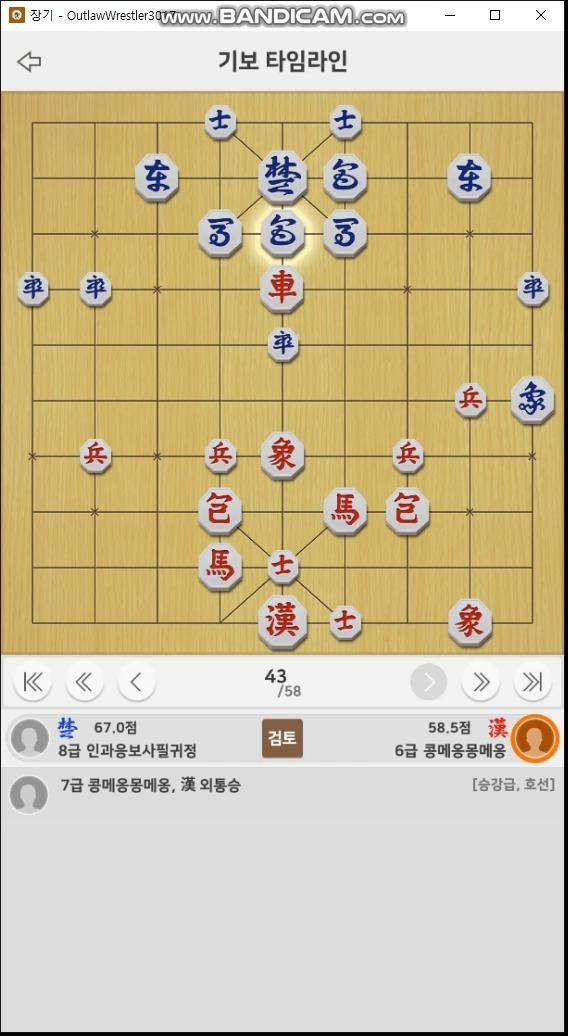cha_green: (133, 153, 181, 201), (447, 154, 493, 198)
cha_red: (262, 265, 304, 311)
jol_green: (266, 326, 301, 363), (78, 272, 115, 305), (15, 271, 50, 304), (518, 271, 550, 306)
jol_red: (393, 439, 426, 476), (79, 439, 112, 473), (205, 437, 237, 471), (456, 383, 486, 419)
ma_green: (199, 209, 242, 256), (324, 210, 367, 254)
ma_red: (198, 544, 242, 591), (324, 488, 367, 535)
po_green: (323, 153, 367, 198), (259, 214, 305, 257)
po_red: (197, 487, 243, 534), (387, 488, 431, 537)
sa_green: (203, 103, 238, 137), (328, 105, 363, 138)
sa_red: (269, 549, 299, 585), (331, 605, 361, 639)
sang_green: (510, 376, 555, 424)
sang_red: (260, 432, 304, 478), (449, 600, 491, 646)
wang_green: (257, 151, 309, 203)
wang_red: (257, 599, 307, 645)
